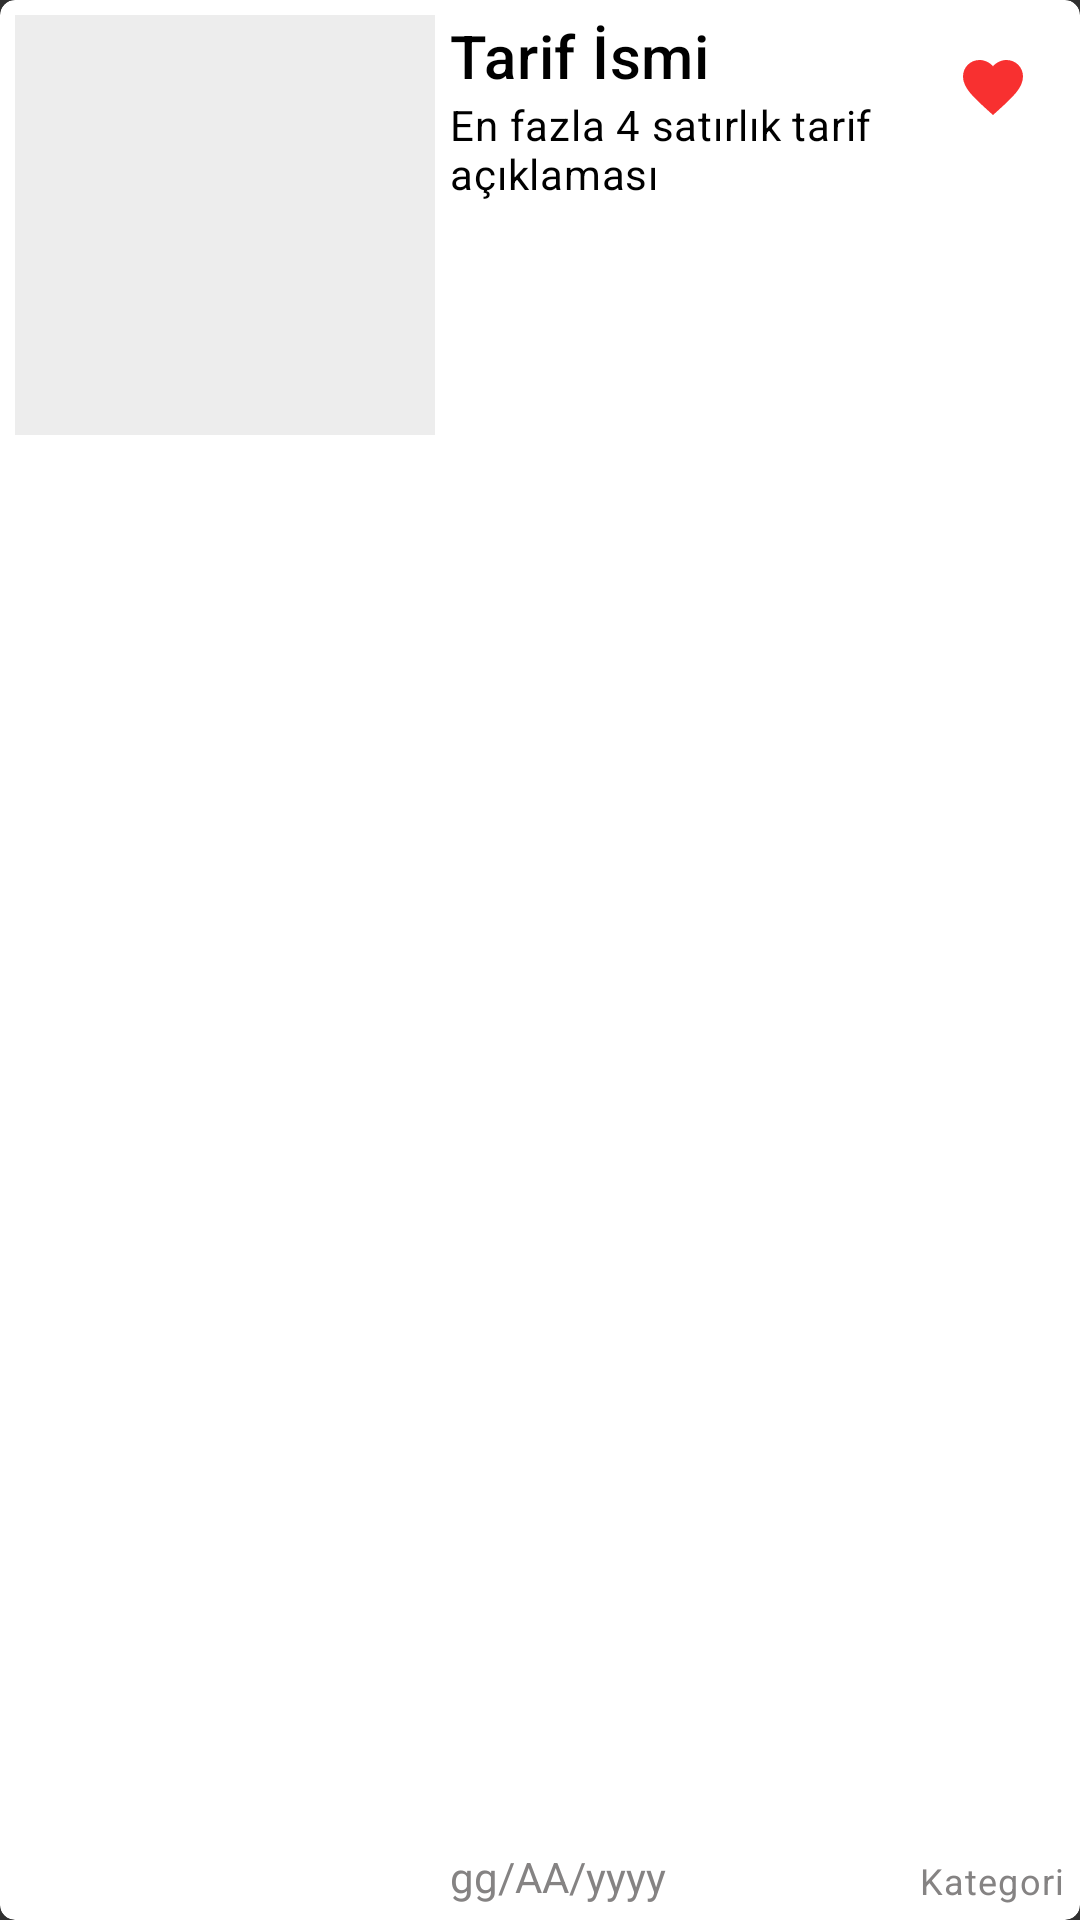

Where icons sit on this 1080 x 1920 app screen, as (x1, y1, x2, y2):
favori dolu: (963, 60, 1023, 115)
